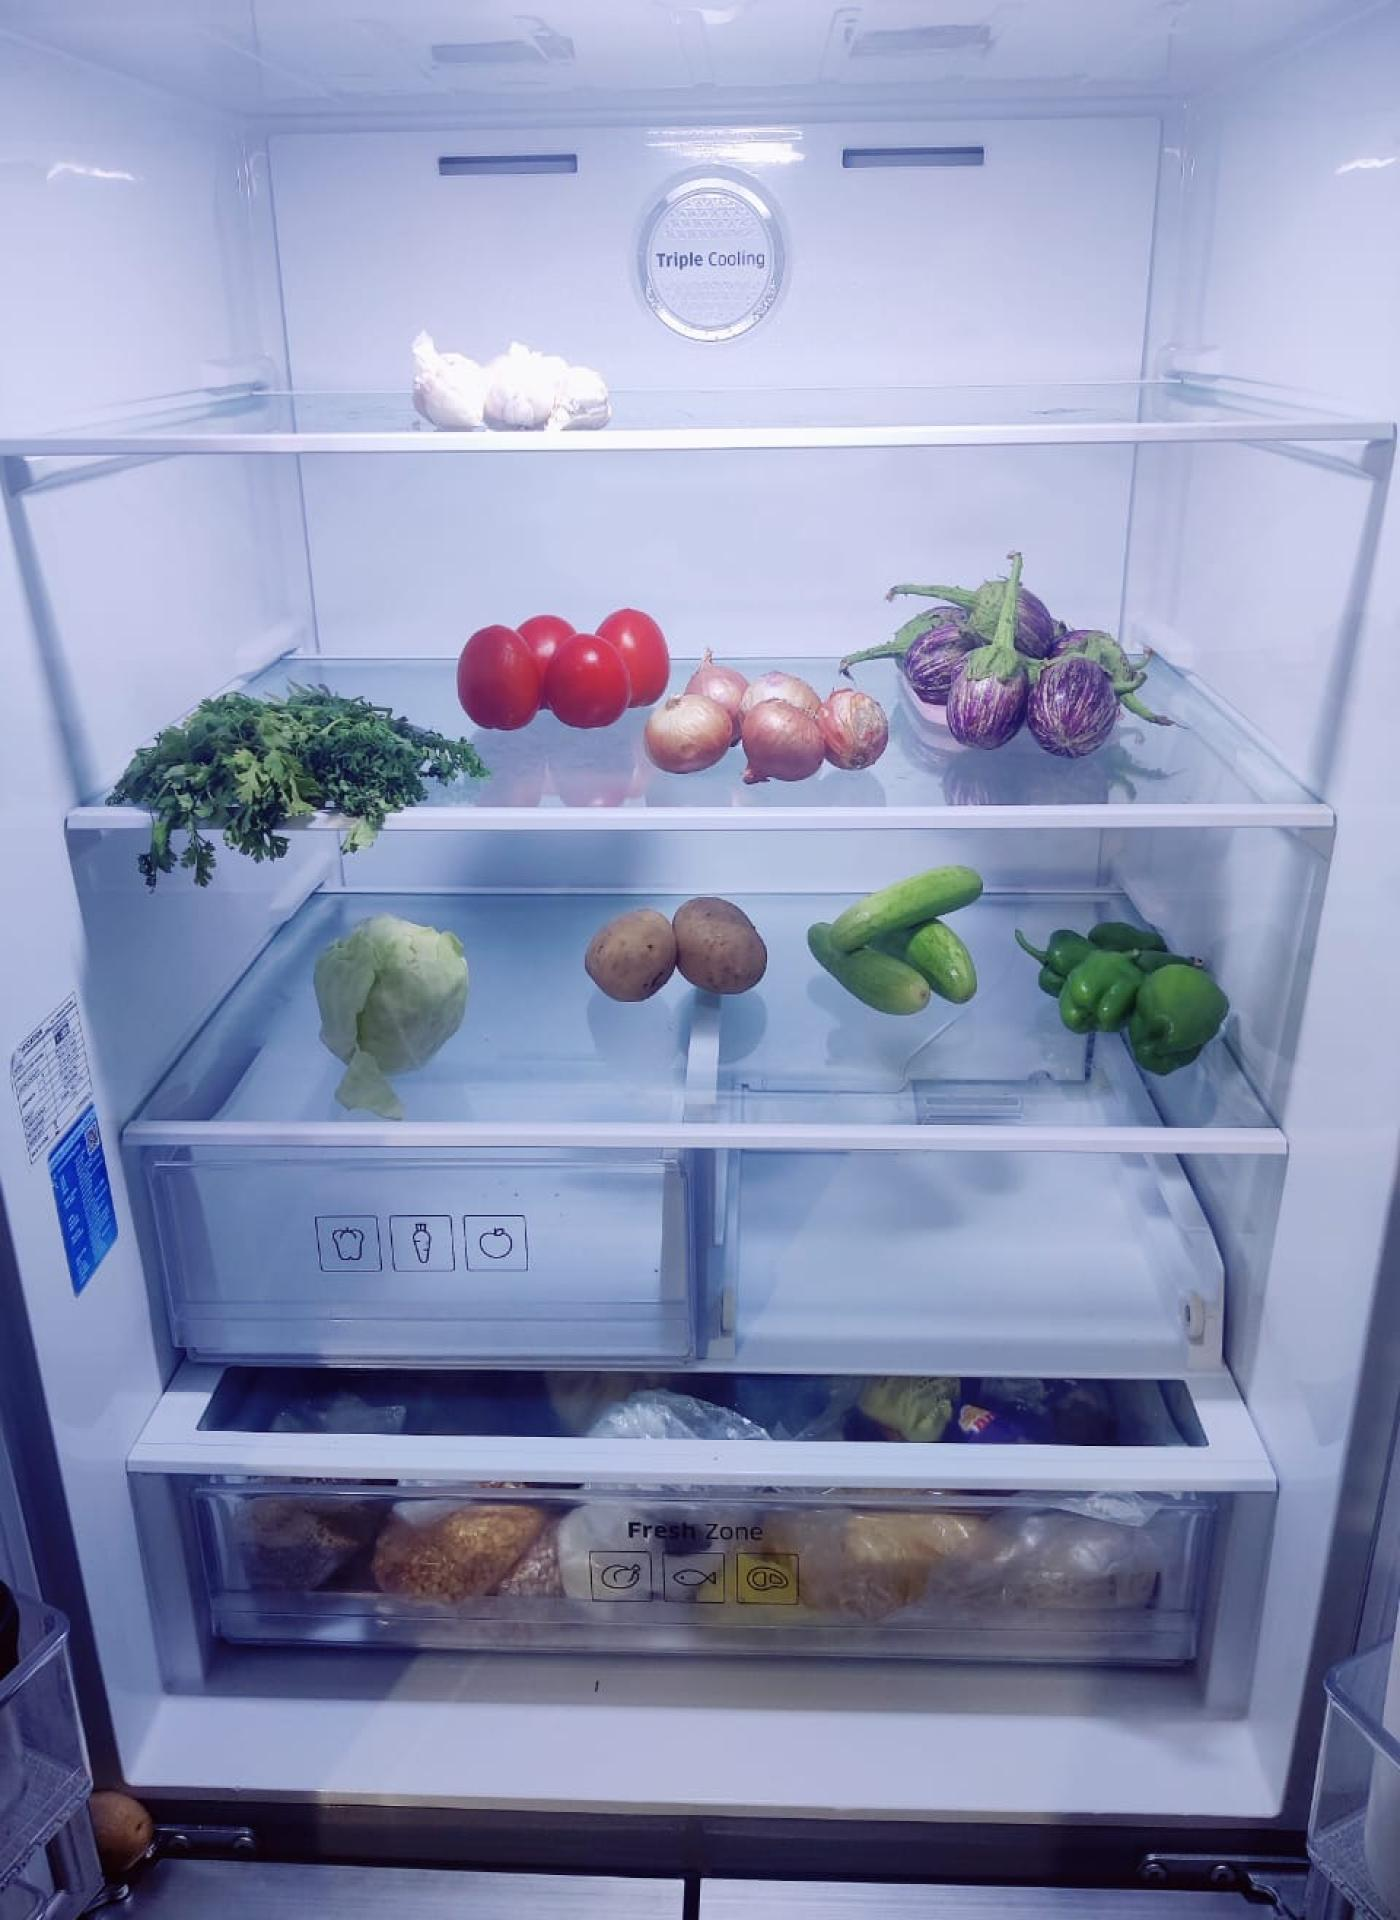brinjal: (908, 566, 1138, 754)
cabbage: (312, 911, 470, 1072)
capsicum: (1035, 923, 1233, 1079)
coriander: (121, 684, 479, 850)
cucumber: (808, 863, 986, 1017)
garlic: (409, 337, 617, 434)
onion: (646, 648, 889, 774)
potato: (589, 899, 775, 1012)
tomato: (455, 607, 669, 730)
